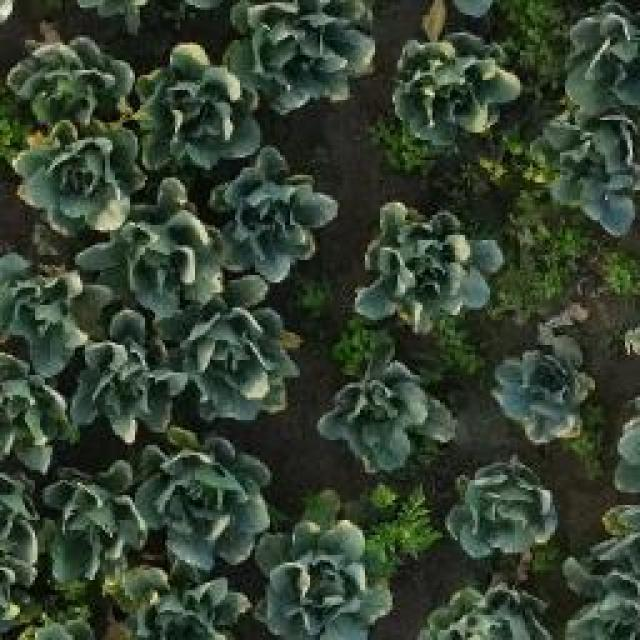cabbage: (85, 190, 249, 336), (136, 437, 282, 575), (346, 202, 500, 329), (210, 144, 344, 286), (126, 38, 263, 170), (172, 301, 302, 432), (222, 0, 378, 108), (262, 517, 397, 640), (61, 310, 180, 445), (7, 120, 141, 239), (315, 361, 454, 468), (387, 33, 523, 138), (29, 464, 146, 584), (531, 114, 640, 234), (4, 34, 140, 130), (445, 455, 555, 573), (0, 245, 80, 377), (552, 0, 640, 115), (497, 342, 592, 442)
